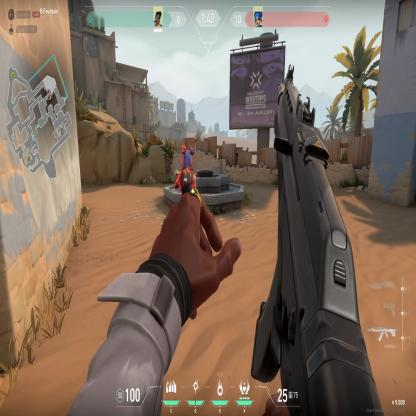enemy: (172, 142, 200, 191)
